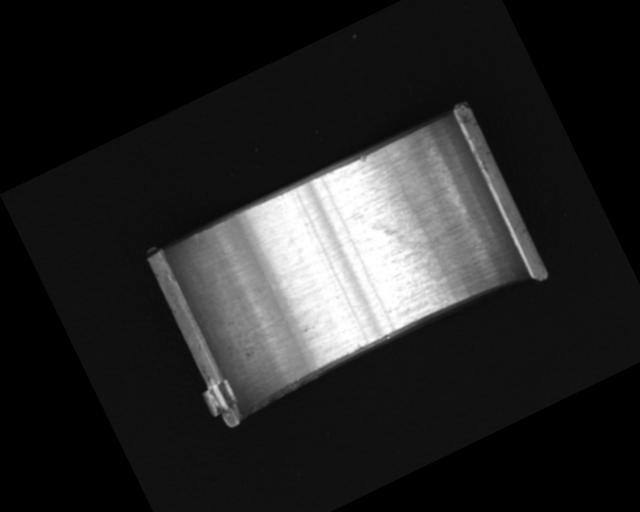bruise: (357, 152, 370, 165)
